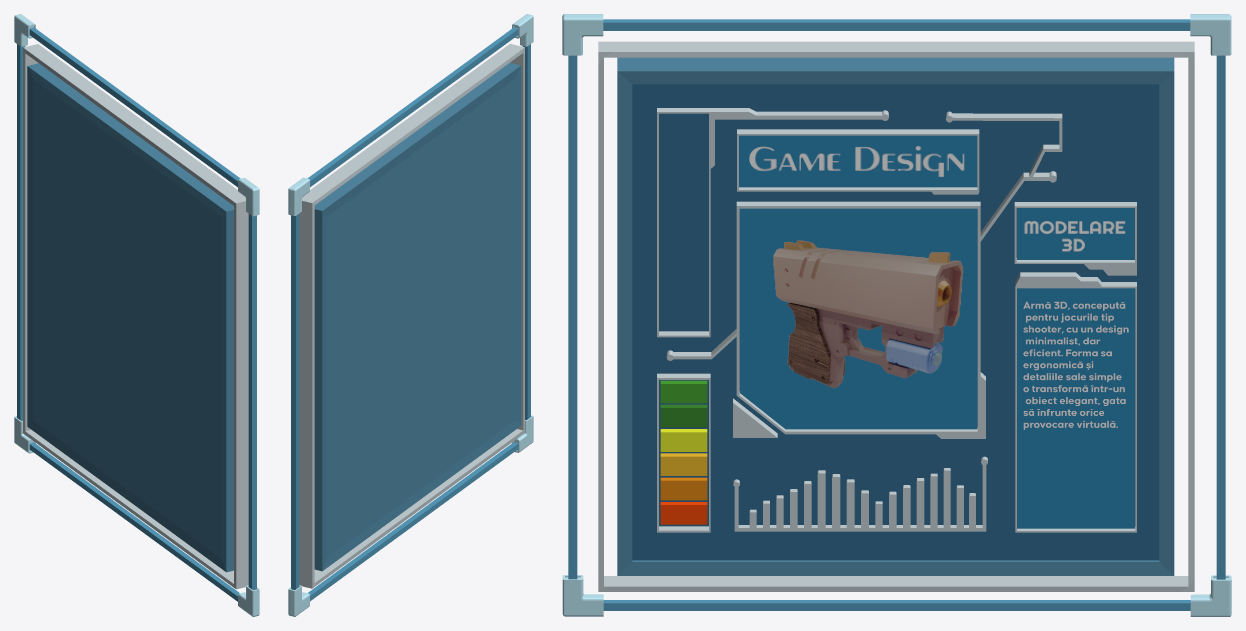
File: pistol.glb
The picture shows the model from 3 angles, left to right: view 1: azimuth 30°, elevation 25°; view 2: azimuth 150°, elevation 25°; view 3: azimuth 270°, elevation 25°; orthographic projection. The views are drawn at different scales.
Visible parts, largest first — view 1: rama_interior, rama_dintre, rama_exterioara, colt_stanga_jos; view 2: rama_interior, rama_dintre, rama_exterioara, colt_stanga_jos; view 3: fundalinterior, panou_logo, rama_interior, panou_text, rama_dintre, rama_exterioara, panou_titlu, rama_logo, grafic, panou_tema, colt_stanga_jos, stanga_spatiugolbaterie (+11 smaller).
Boxes of the visible parts, x1,y1,x2,y2 form: rama_interior: (27,63,233,572); rama_dintre: (23,44,248,589); rama_exterioara: (17,27,256,601); colt_stanga_jos: (14,14,259,616); rama_interior: (314,63,521,571); rama_dintre: (299,43,524,588); rama_exterioara: (291,27,530,601); colt_stanga_jos: (288,14,533,616); fundalinterior: (632,84,1159,560); panou_logo: (740,208,977,429); rama_interior: (617,57,1174,575); panou_text: (1017,288,1134,528); rama_dintre: (598,41,1194,591); rama_exterioara: (568,19,1225,610); panou_titlu: (739,135,977,187); rama_logo: (666,111,1062,438); grafic: (733,456,987,531); panou_tema: (1017,208,1134,259); colt_stanga_jos: (562,14,1231,616); stanga_spatiugolbaterie: (657,108,888,337).
Bounding box in the file's own units: 0.4011 × 6.77 × 6.85.
23 materials, 4 textured.
